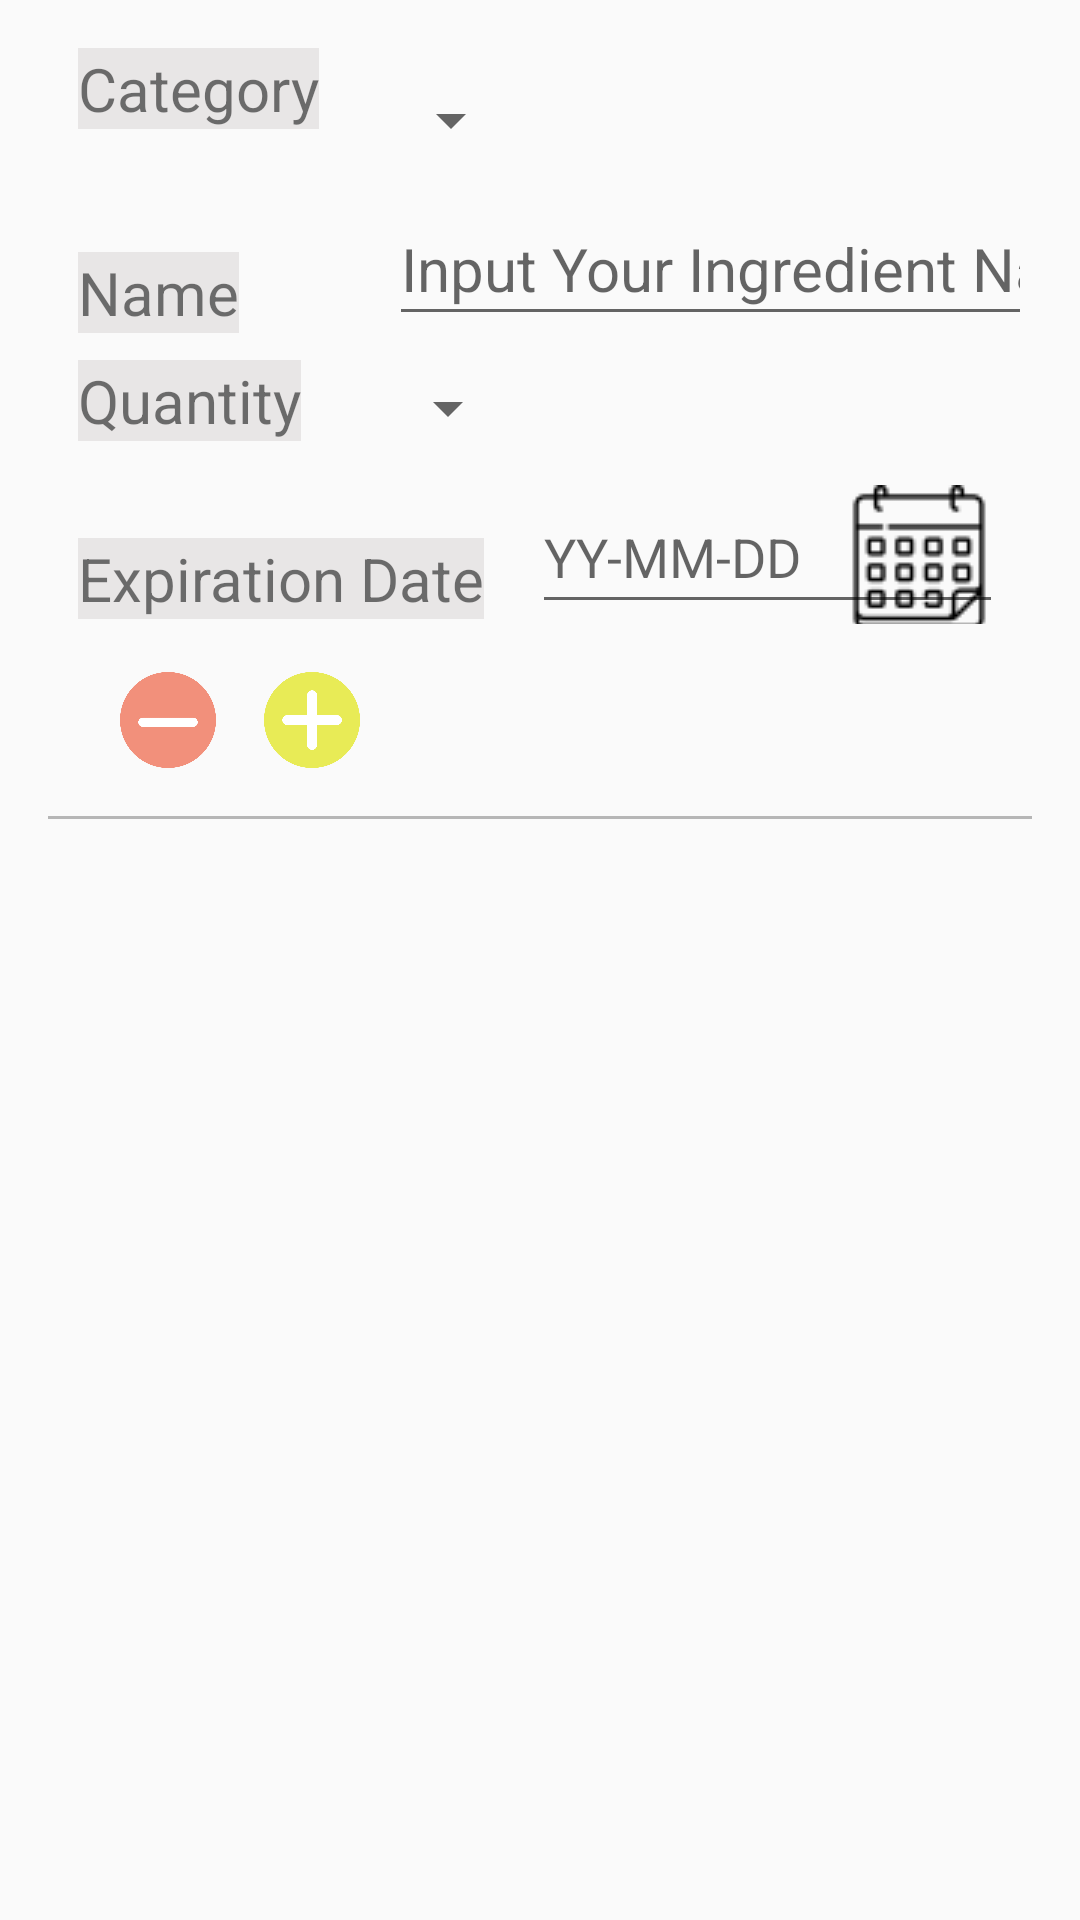

Where to tap for icons on this 1080px×1920px app screen, as (x,y):
삭제: (168,720)
추가: (312,720)
